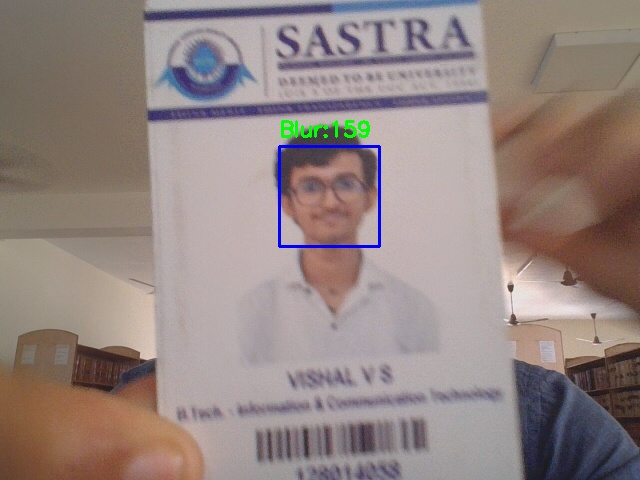fake: (279, 146, 379, 246)
